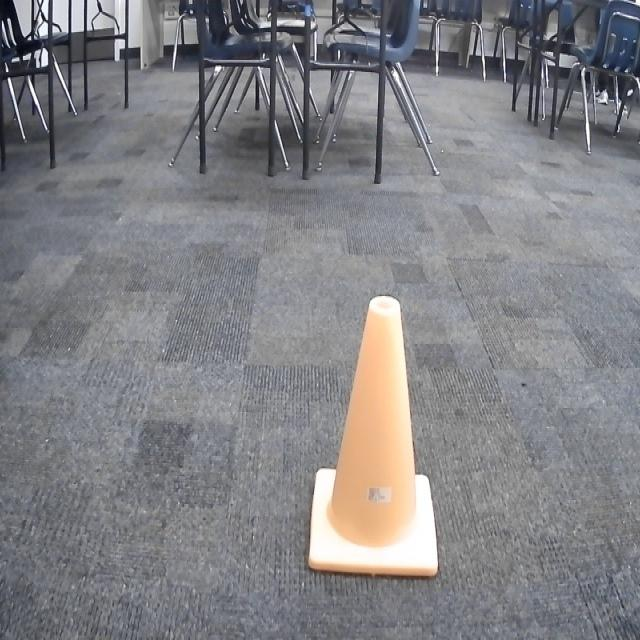cone: (305, 290, 440, 581)
